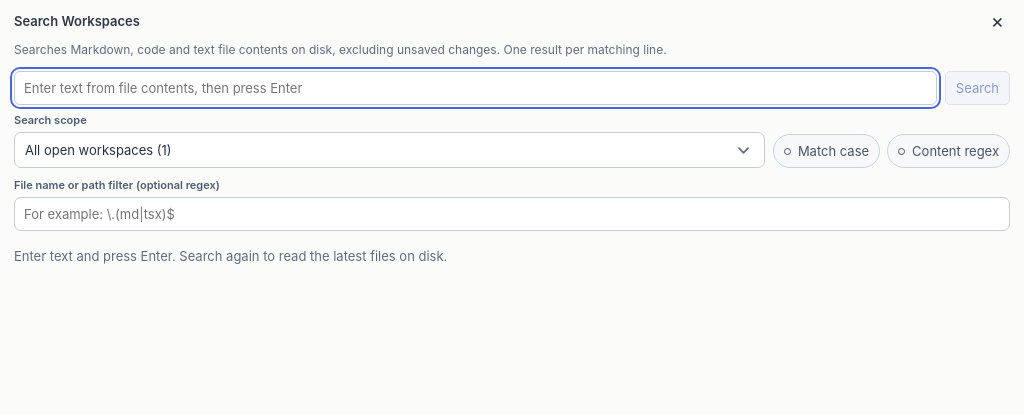
Scenario: WorkspaceSearchPanel › does not expose results after root or hidden-file settings change
Type "matching" into the search field at coordinates (475, 88), box [14, 71, 937, 105]
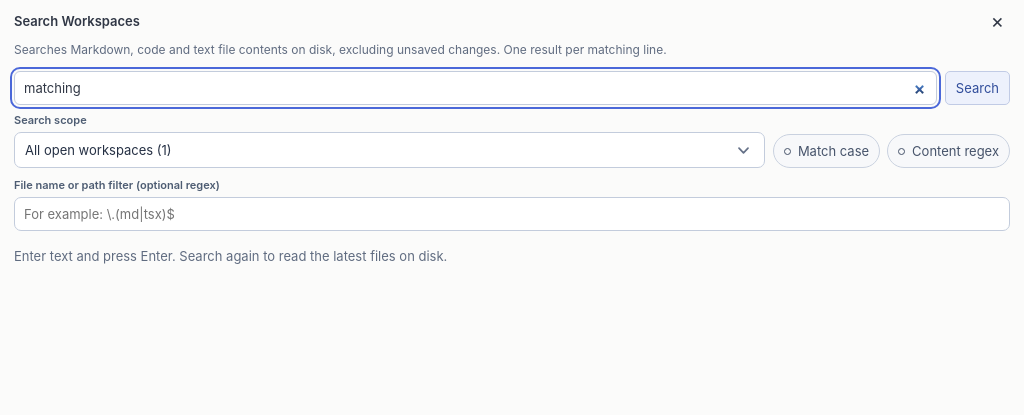
Click the button "Search" at coordinates (977, 88), box [945, 71, 1010, 105]
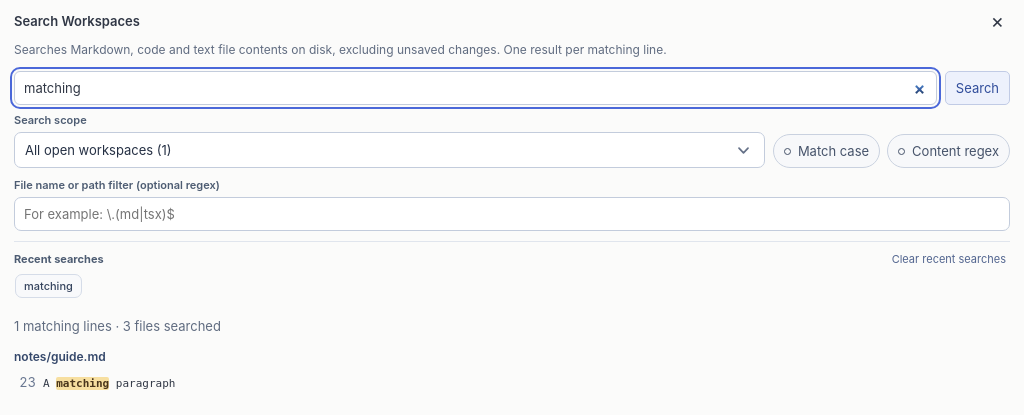
Expected: the button titled "notes/guide.md:23:4" shows "A matching paragraph", [8, 368, 1016, 398]
